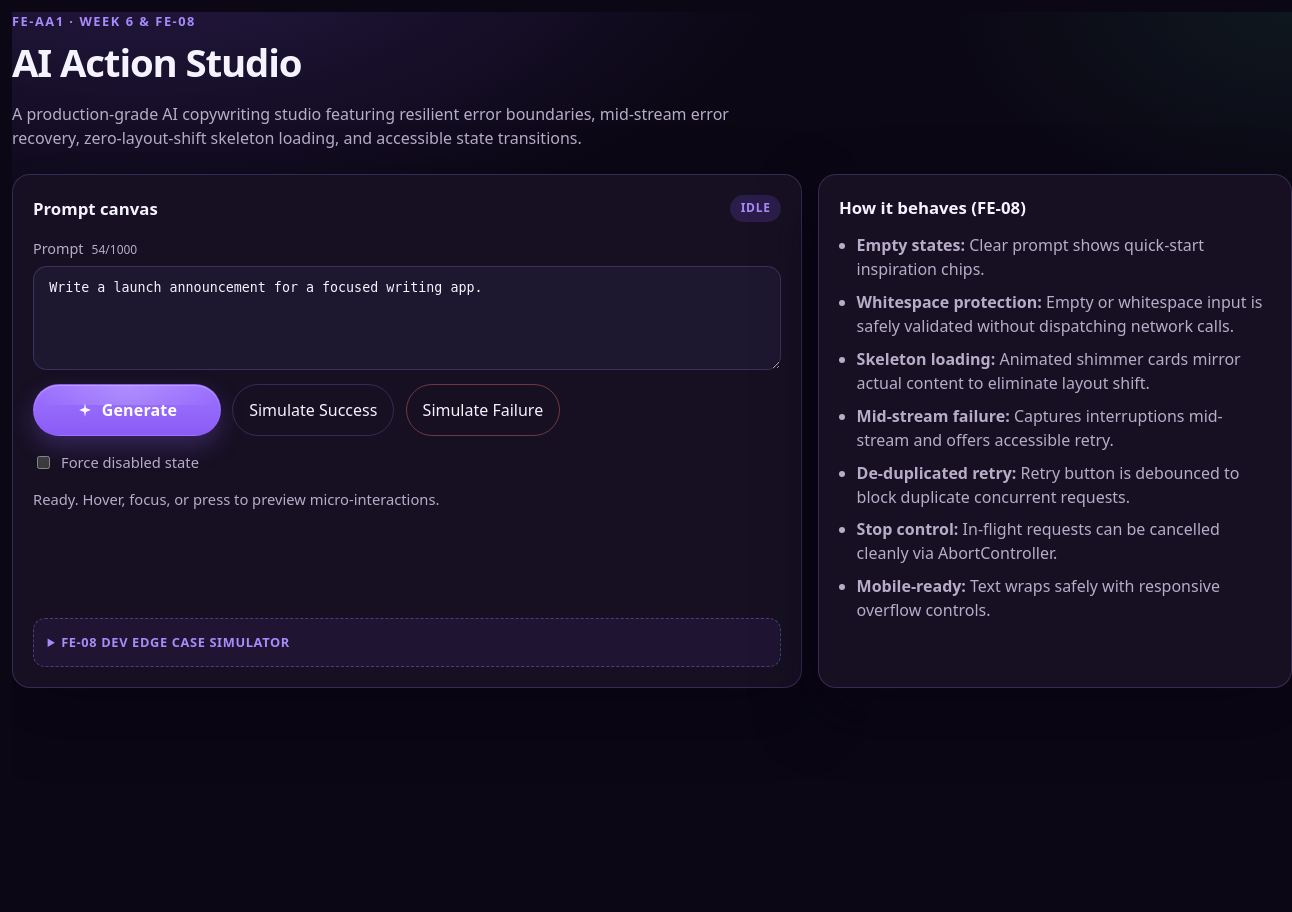
it: ActionStudio › provides a Stop button that halts in-flight generation
The image size is (1292, 912).
Replace the text in the text box with "Long running generation" at (407, 318), box top-left (33, 266), bottom-right (781, 370)
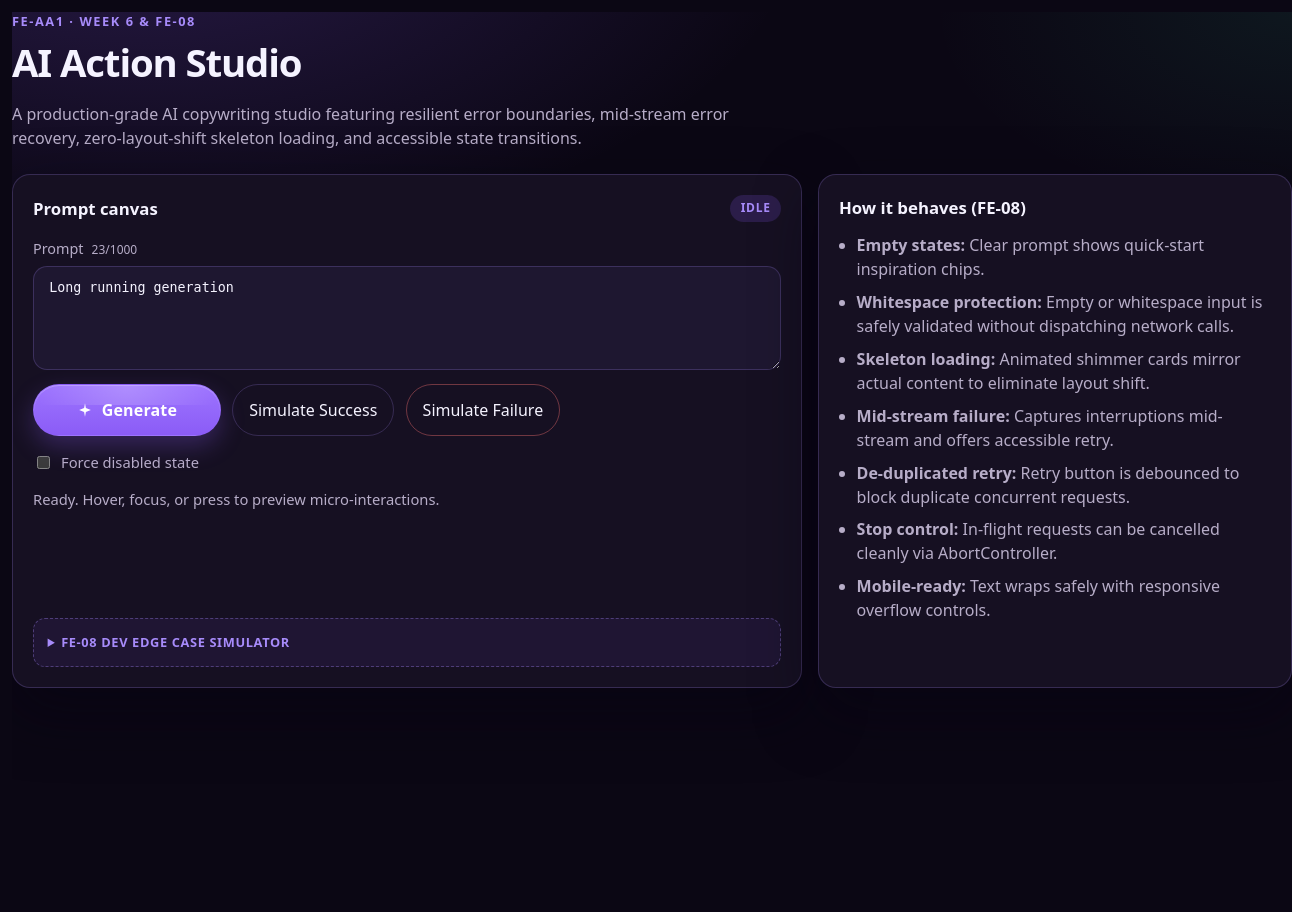
Click the button "Generate" at (127, 410), box top-left (33, 384), bottom-right (221, 436)
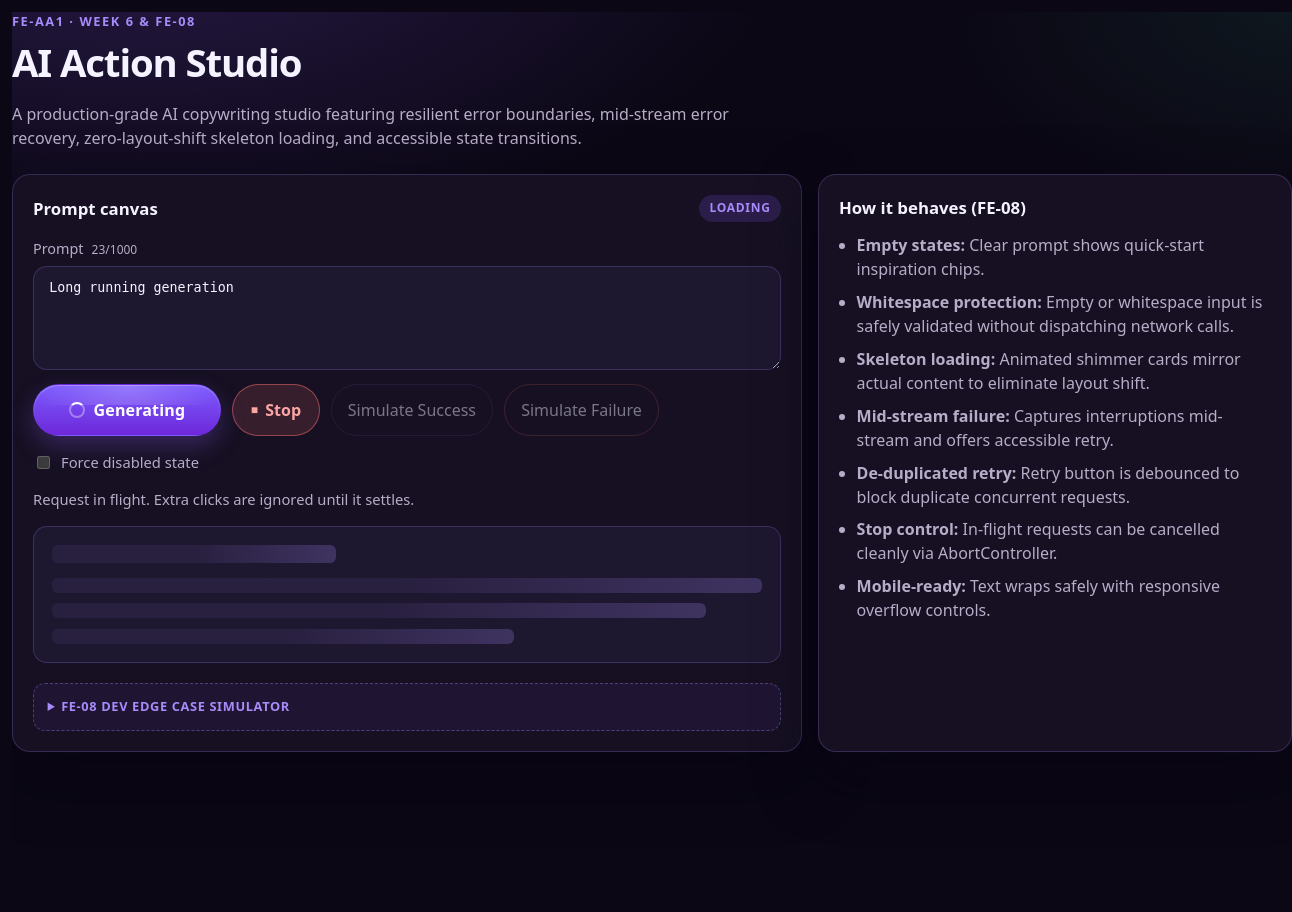
Expected: the button with aria-label "stop generation" is shown
Click the button with aria-label "stop generation" at (276, 410), box top-left (232, 384), bottom-right (320, 436)
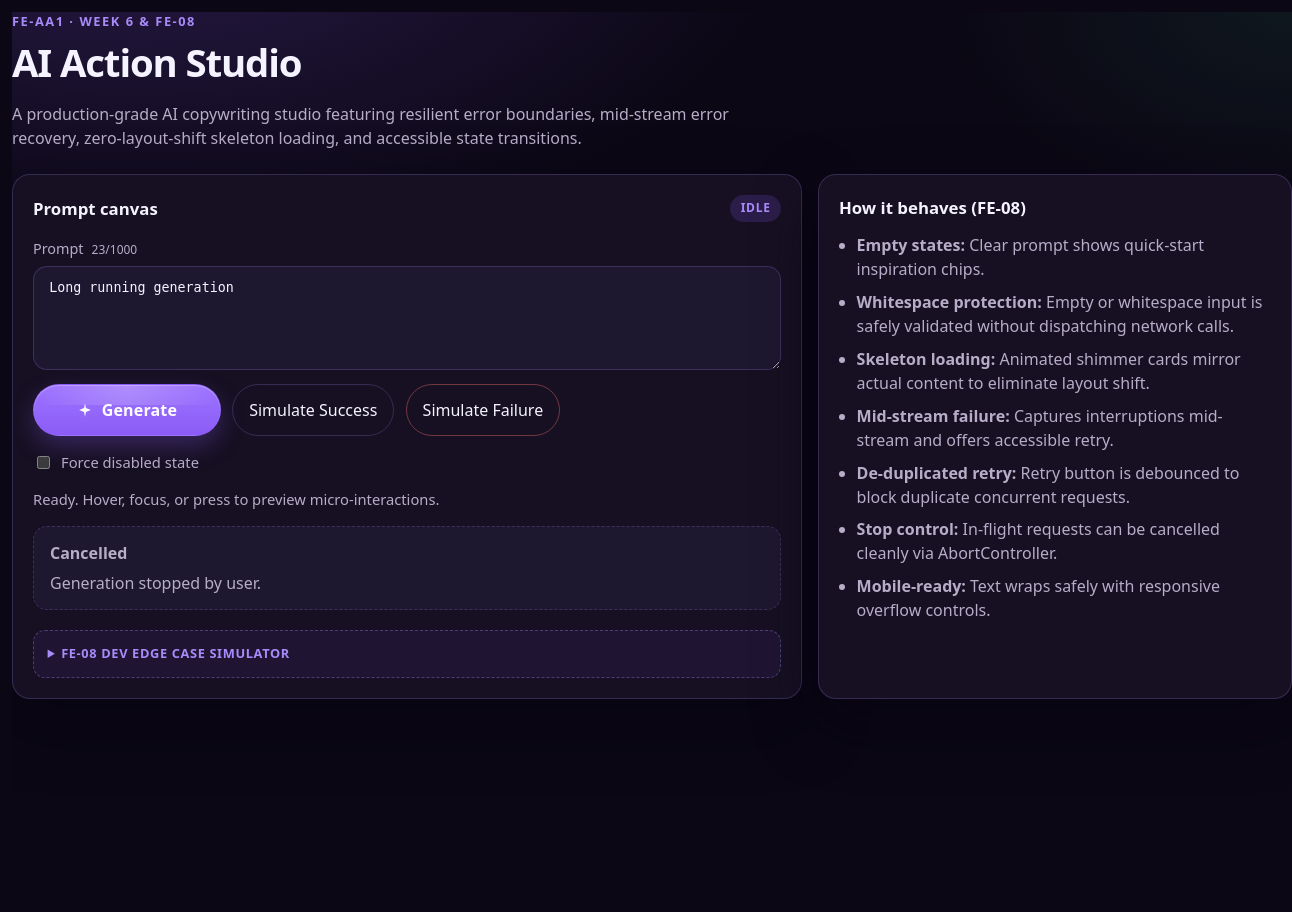
Expected: the text "Generation stopped by user." is shown, top-left (50, 572), bottom-right (261, 594)
